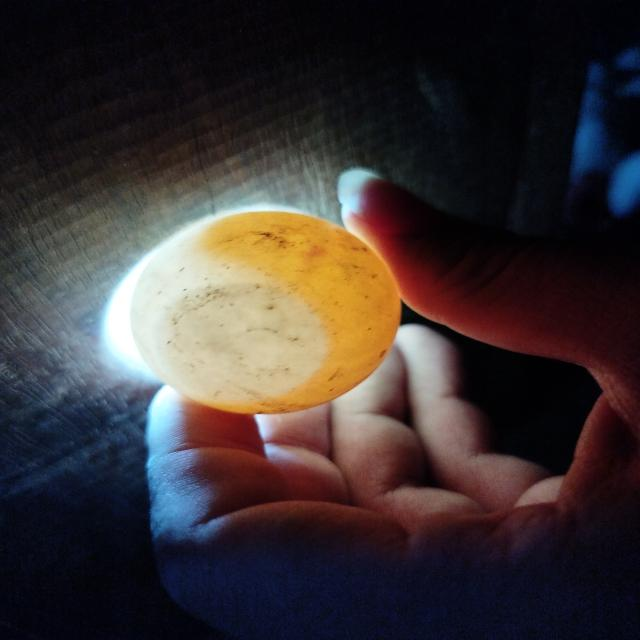Camara de Ar: (159, 284, 328, 403)
